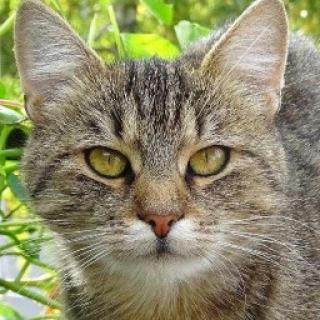cat: (15, 5, 293, 281)
nose: (134, 198, 186, 244)
